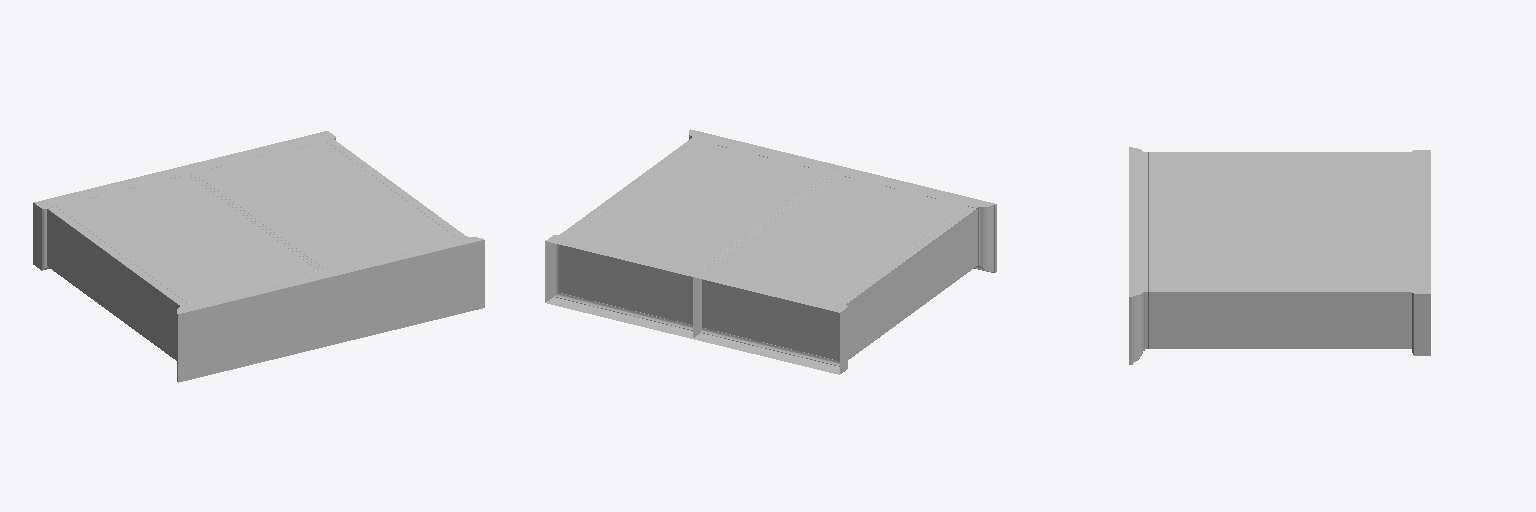
File: Bookcase Restomebel Vintage Bookcase Reclaimed Contemporary Collection N260321.obj
The picture shows the model from 3 angles: view 1: azimuth 30°, elevation 25°; view 2: azimuth 150°, elevation 25°; view 3: azimuth 270°, elevation 25°; orthographic projection.
Visible parts, largest first — view 1: Vintage_Bookcase_Reclaimed_Contemporary_Collection; view 2: Vintage_Bookcase_Reclaimed_Contemporary_Collection; view 3: Vintage_Bookcase_Reclaimed_Contemporary_Collection.
Boxes of the visible parts, box(x1,y1,x2,y2) form: Vintage_Bookcase_Reclaimed_Contemporary_Collection: box(33, 131, 484, 382); Vintage_Bookcase_Reclaimed_Contemporary_Collection: box(545, 129, 996, 374); Vintage_Bookcase_Reclaimed_Contemporary_Collection: box(1129, 147, 1430, 364).
Bounding box in the file's own units: 40 × 8.53 × 34.1.